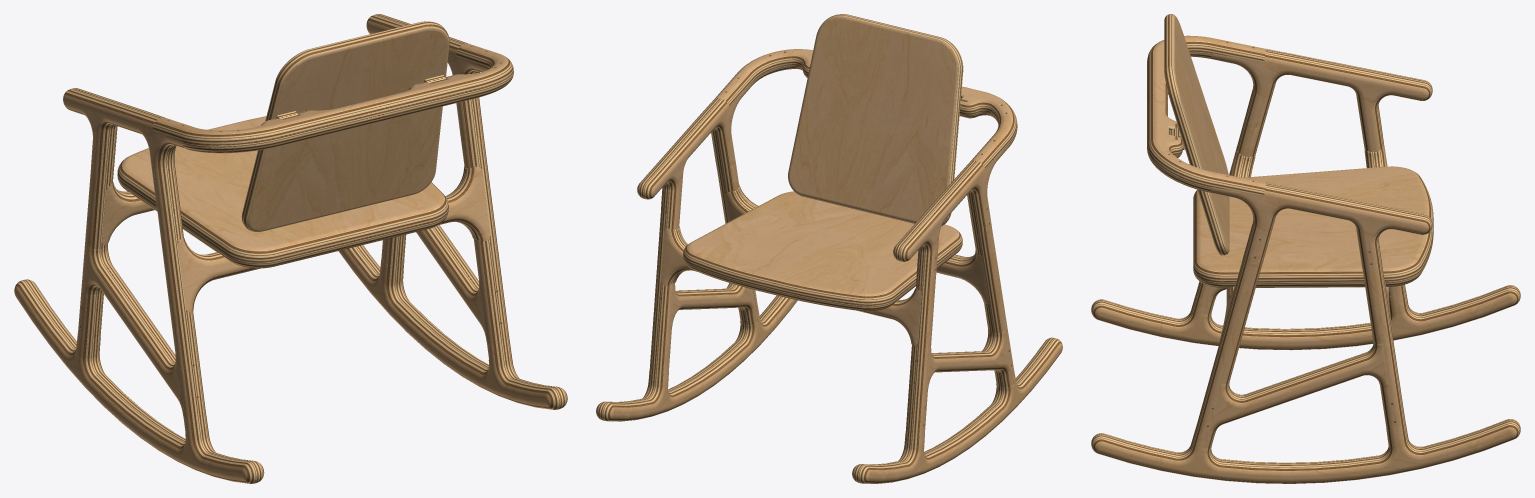
The model's file is rocker.glb.
3 renders of one model, left to right at view 1: azimuth 30°, elevation 25°; view 2: azimuth 150°, elevation 25°; view 3: azimuth 270°, elevation 25°, orthographic. The views are drawn at different scales.
Visible parts, largest first — view 1: Gazelle_Rocker; view 2: Gazelle_Rocker; view 3: Gazelle_Rocker.
Part boxes in pixels (bbox=[...]): Gazelle_Rocker: bbox=[14, 14, 567, 483]; Gazelle_Rocker: bbox=[596, 14, 1062, 483]; Gazelle_Rocker: bbox=[1091, 14, 1520, 483].
Size of the model in its own units: 0.6431 by 0.7886 by 0.8192.
3 materials, 2 textured.
